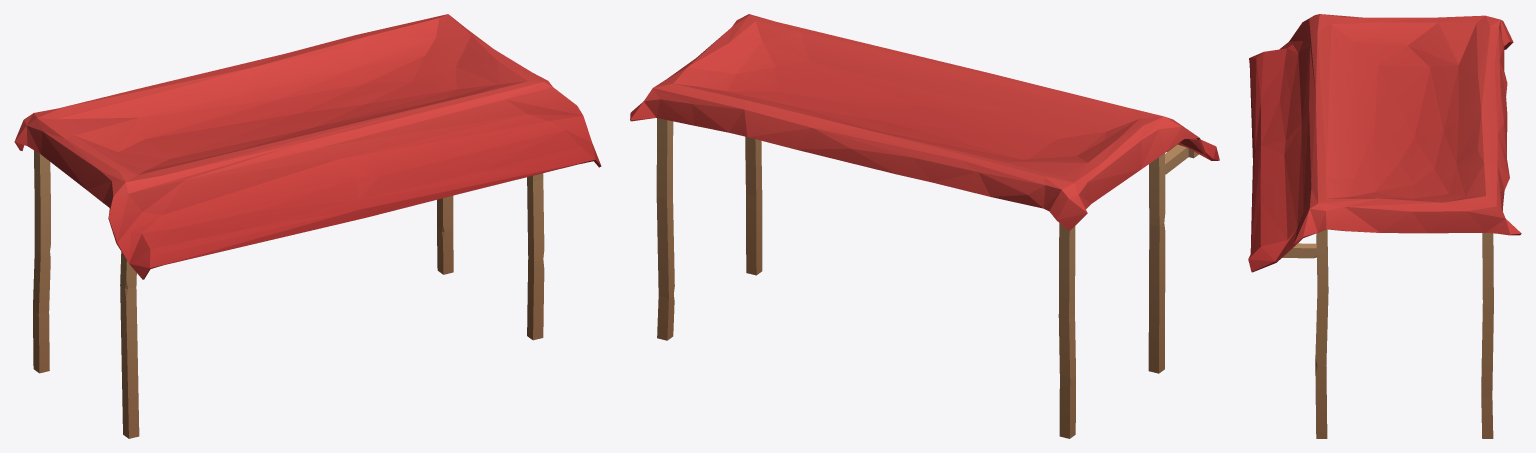
File: SM_MarketStall_02.fbx
The picture shows the model from 3 angles, left to right: view 1: azimuth 30°, elevation 25°; view 2: azimuth 150°, elevation 25°; view 3: azimuth 270°, elevation 25°; orthographic projection. The views are drawn at different scales.
Parts seen in each view (by area): view 1: SM_MarketStall_02; view 2: SM_MarketStall_02; view 3: SM_MarketStall_02.
Part boxes in pixels (x1,y1,x2,y2): SM_MarketStall_02: [14, 14, 601, 438]; SM_MarketStall_02: [630, 14, 1219, 438]; SM_MarketStall_02: [1248, 14, 1521, 438].
Size of the model in its own units: 501 by 260 by 272.
